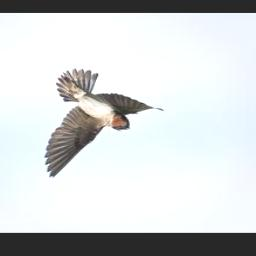Swallow: (42, 66, 165, 180)
